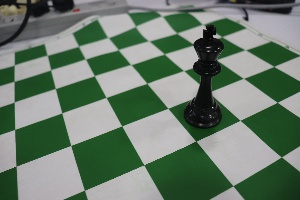black_king: (176, 14, 233, 135)
